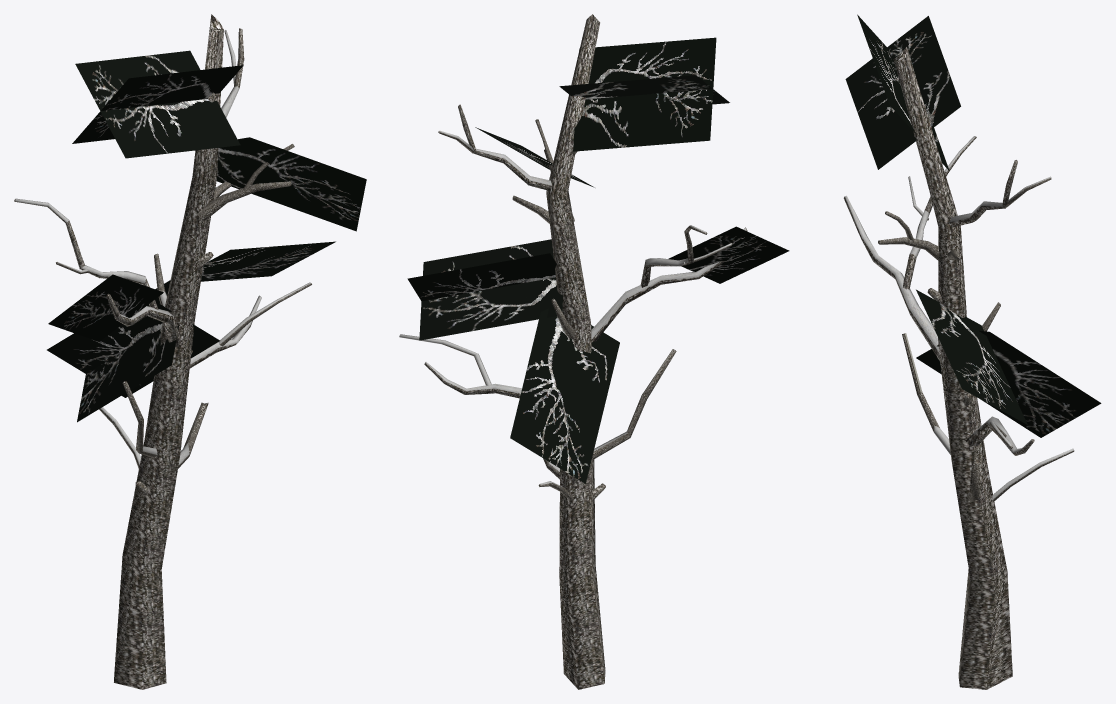
File: tree_goth_dead_med_snow.fbx
3 renders of one model, left to right at view 1: azimuth 30°, elevation 25°; view 2: azimuth 150°, elevation 25°; view 3: azimuth 270°, elevation 25°, orthographic. The views are drawn at different scales.
Parts seen in each view (by area): view 1: mesh_20, mesh_30, mesh_31, mesh_33, mesh_34, mesh_32, mesh_3, mesh_8, mesh_11, mesh_10, mesh_26; view 2: mesh_20, mesh_30, mesh_33, mesh_32, mesh_34, mesh_26, mesh_9, mesh_5, mesh_8; view 3: mesh_20, mesh_30, mesh_33, mesh_32, mesh_9, mesh_26, mesh_5, mesh_8, mesh_3, mesh_10, mesh_12.
Boxes of the visible parts, <box> form: mesh_20: <box>114,14,223,689</box>; mesh_30: <box>72,50,243,158</box>; mesh_31: <box>216,137,366,231</box>; mesh_33: <box>47,280,219,422</box>; mesh_34: <box>48,274,163,341</box>; mesh_32: <box>166,241,335,284</box>; mesh_3: <box>197,181,291,221</box>; mesh_8: <box>106,293,180,346</box>; mesh_11: <box>15,198,146,283</box>; mesh_10: <box>14,199,158,318</box>; mesh_26: <box>122,381,157,458</box>; mesh_20: <box>546,14,605,689</box>; mesh_30: <box>559,37,729,151</box>; mesh_33: <box>510,308,619,483</box>; mesh_32: <box>407,239,562,340</box>; mesh_34: <box>668,226,789,283</box>; mesh_26: <box>592,349,676,459</box>; mesh_9: <box>591,228,746,339</box>; mesh_5: <box>458,104,551,190</box>; mesh_8: <box>591,227,747,342</box>; mesh_20: <box>893,47,1012,689</box>; mesh_30: <box>845,14,960,170</box>; mesh_33: <box>916,330,1101,437</box>; mesh_32: <box>916,289,1027,424</box>; mesh_9: <box>845,195,939,352</box>; mesh_26: <box>902,333,939,431</box>; mesh_5: <box>947,160,1017,227</box>; mesh_8: <box>843,196,940,361</box>; mesh_3: <box>878,237,939,260</box>; mesh_10: <box>903,136,976,289</box>; mesh_12: <box>966,422,1034,455</box>.
Size of the model in its own units: 637 by 1256 by 497.
Materials: 3 (3 with a texture image).
